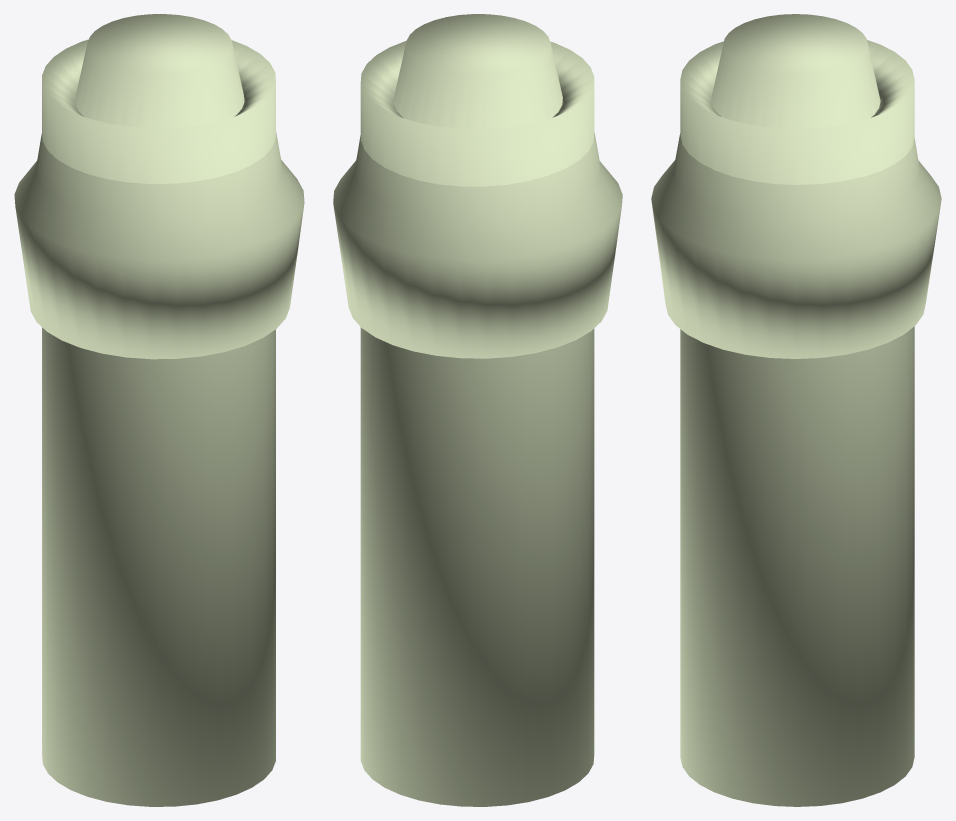
File: Shake.glb
3 renders of one model, left to right at view 1: azimuth 30°, elevation 25°; view 2: azimuth 150°, elevation 25°; view 3: azimuth 270°, elevation 25°, orthographic.
Visible parts, largest first — view 1: Circle; view 2: Circle; view 3: Circle.
Part boxes in pixels (x1=…): Circle: x1=14, y1=14, x2=304, y2=806; Circle: x1=333, y1=14, x2=622, y2=806; Circle: x1=651, y1=14, x2=941, y2=806.
Size of the model in its own units: 4.07 by 11.03 by 4.07.
